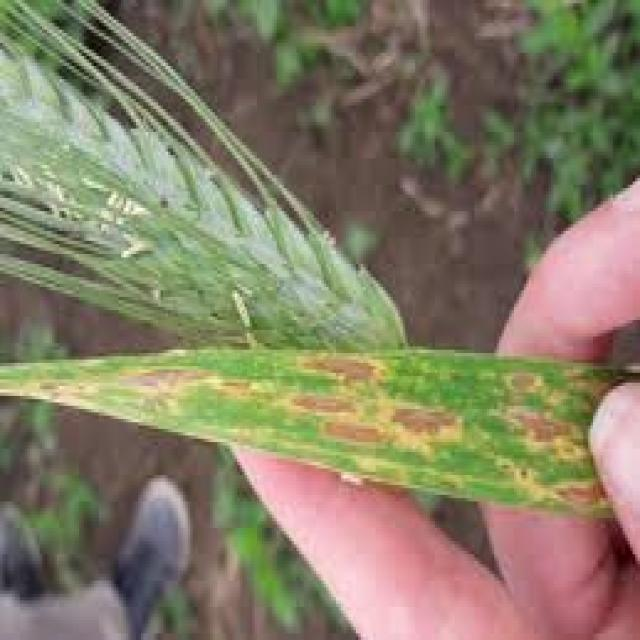leaf_blight: (0, 350, 638, 515)
